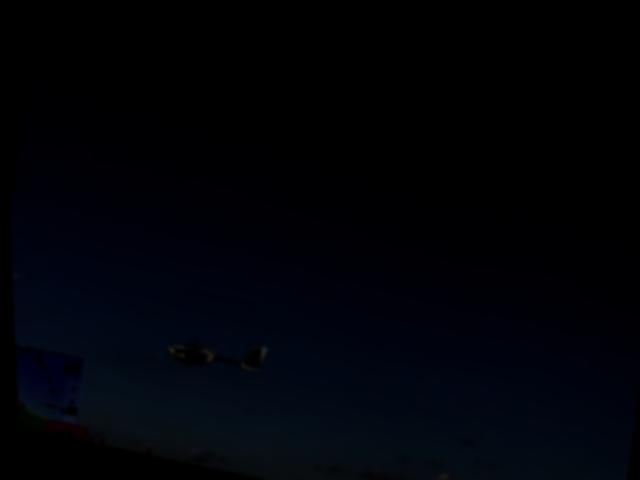uav: (159, 322, 267, 380)
